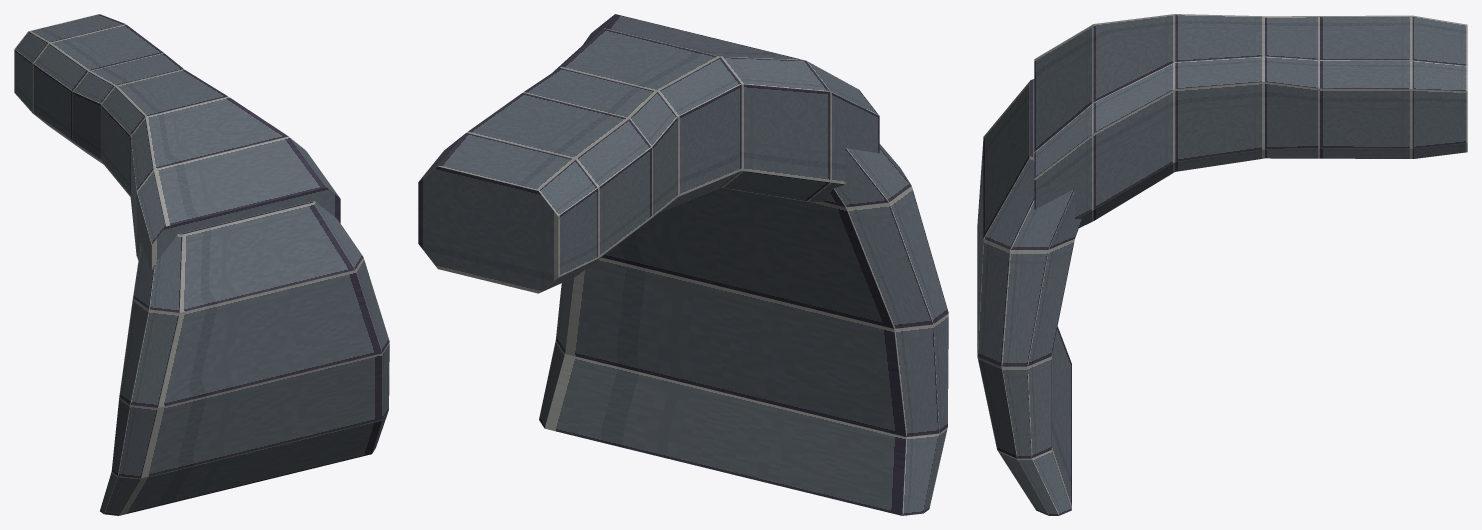
The model's file is workpiece_forged_hoe_tempered.obj.
The picture shows the model from 3 angles, left to right: view 1: azimuth 30°, elevation 25°; view 2: azimuth 150°, elevation 25°; view 3: azimuth 270°, elevation 25°; orthographic projection. The views are drawn at different scales.
Visible parts, largest first — view 1: geometry; view 2: geometry; view 3: geometry.
Part boxes in pixels (box(x1,y1,x2,y2)): geometry: box(14, 14, 389, 515); geometry: box(418, 14, 948, 515); geometry: box(977, 14, 1467, 515).
Bounding box in the file's own units: 0.3775 × 0.4469 × 0.4956.
